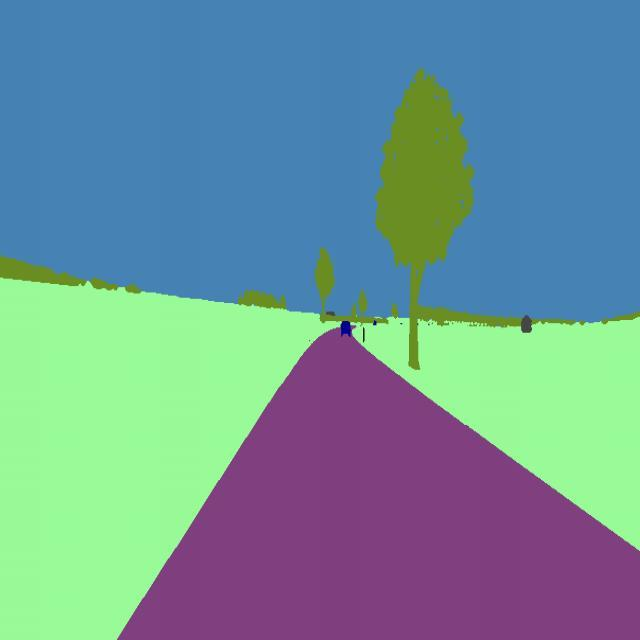safe: (334, 314, 358, 344)
